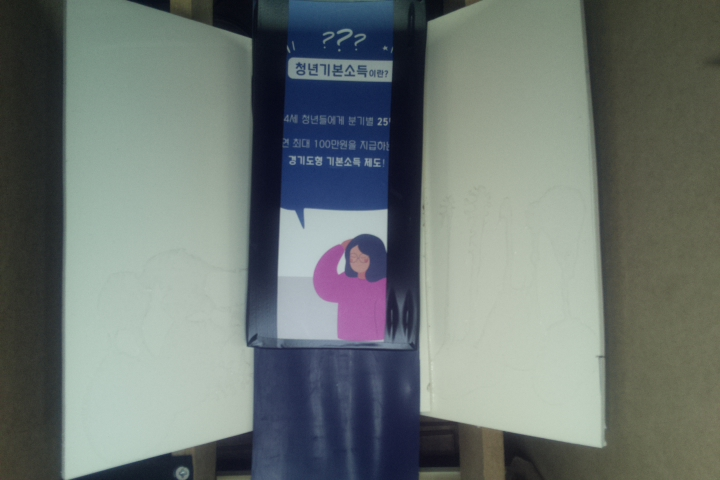book: (246, 1, 428, 350)
